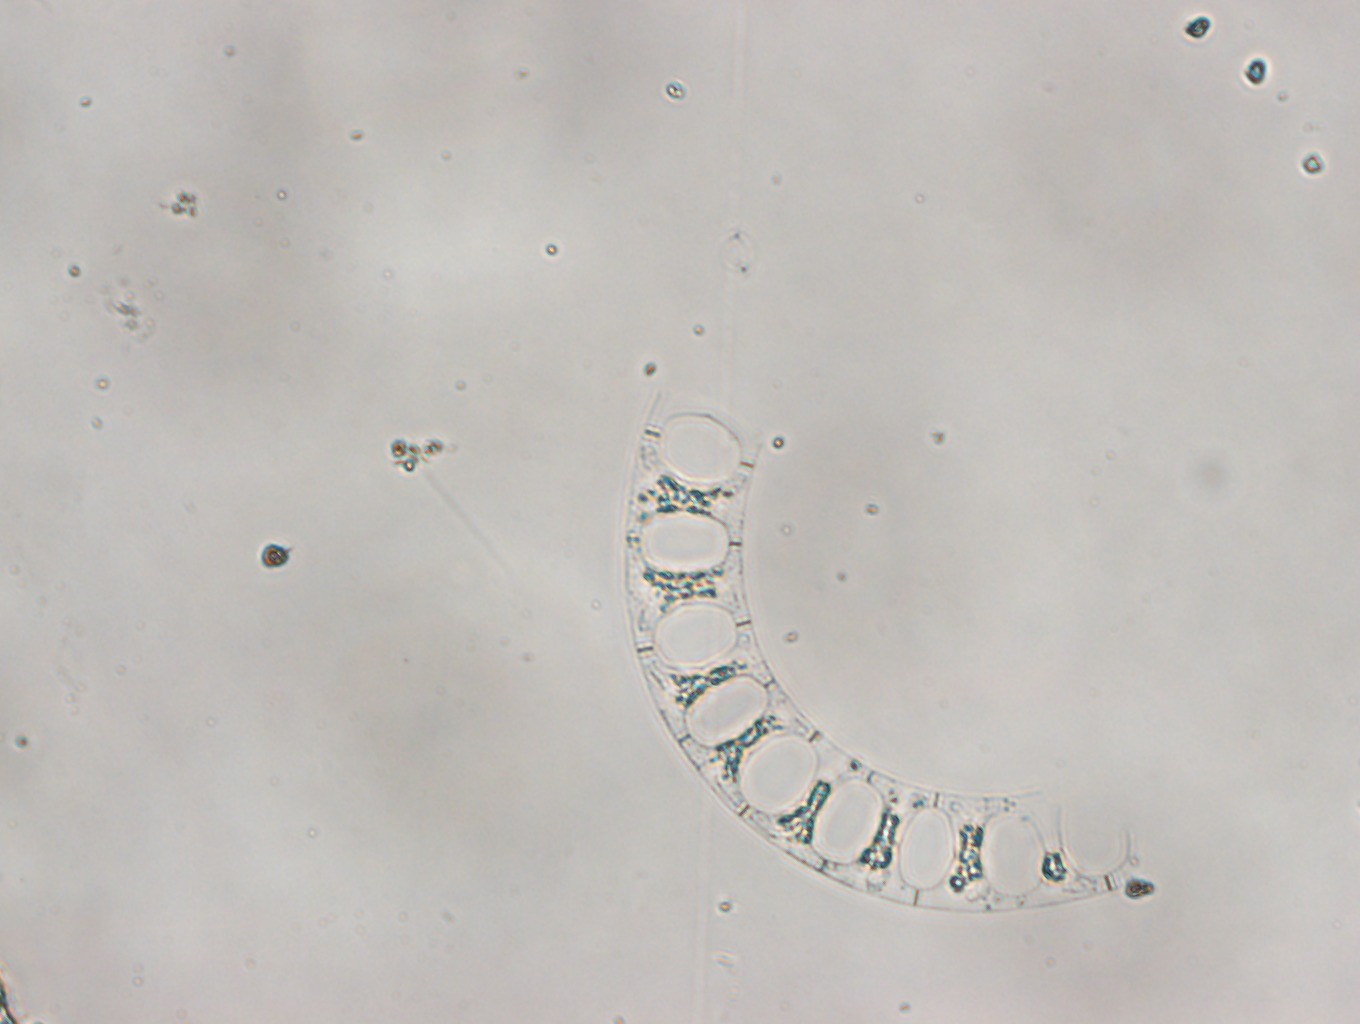eucampia: (622, 392, 1145, 910)
